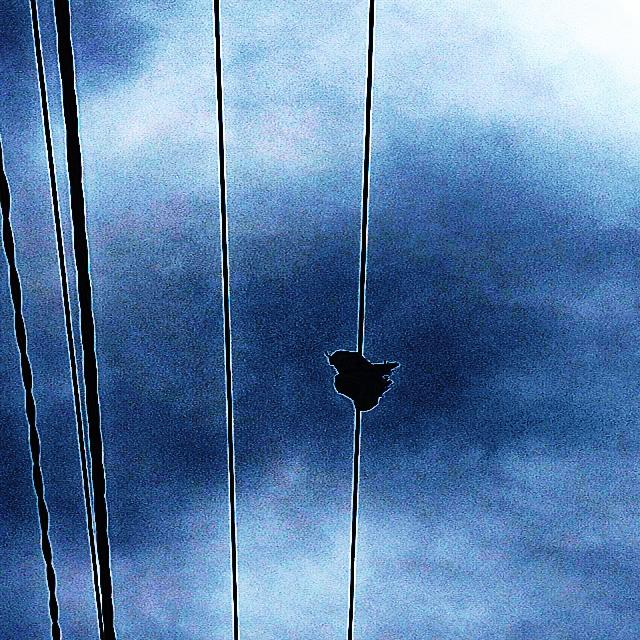obstruction: (323, 340, 405, 419)
wires: (0, 4, 126, 640), (205, 6, 242, 637), (350, 4, 400, 356), (335, 413, 369, 636)
